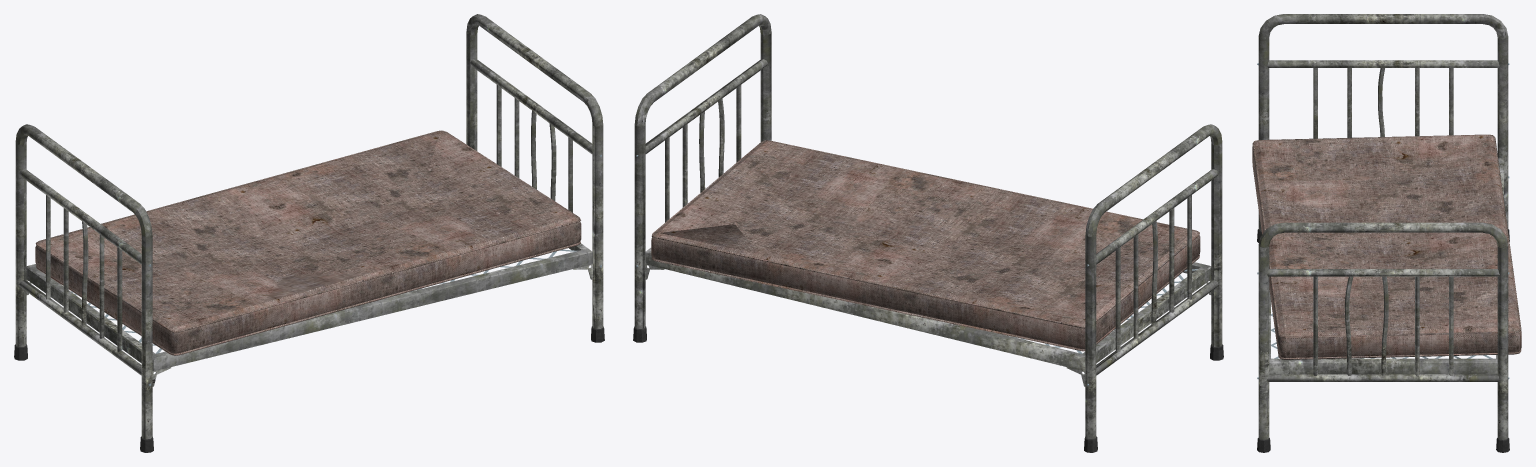
3 renders of one model, left to right at view 1: azimuth 30°, elevation 25°; view 2: azimuth 150°, elevation 25°; view 3: azimuth 270°, elevation 25°, orthographic. The views are drawn at different scales.
Parts seen in each view (by area): view 1: Geode (×3); view 2: Geode (×3); view 3: Geode (×3).
Boxes of the visible parts, box(x1,y1,x2,y2) form: Geode (×3): box(14, 14, 604, 452); Geode (×3): box(633, 14, 1223, 452); Geode (×3): box(1252, 14, 1521, 452).
Size of the model in its own units: 2.25 by 1.11 by 1.19.
Materials: 5 (4 with a texture image).
